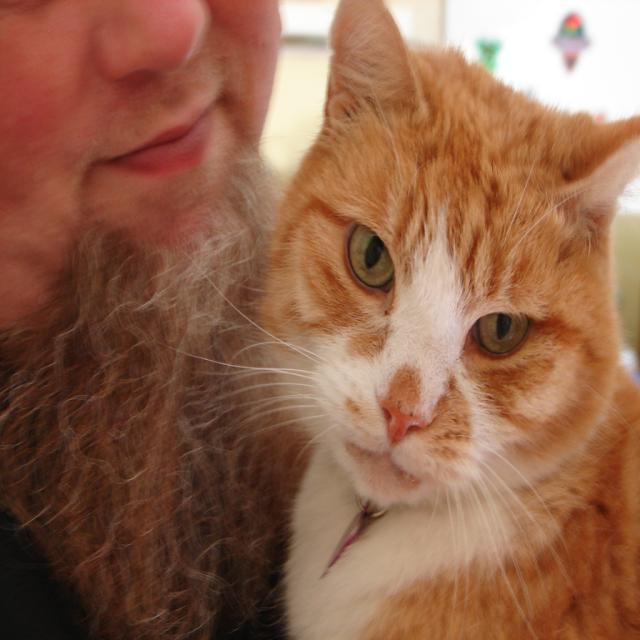cat: (259, 4, 640, 640)
